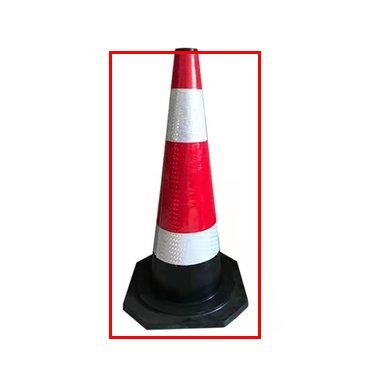traffic_cone: (110, 39, 259, 335)
